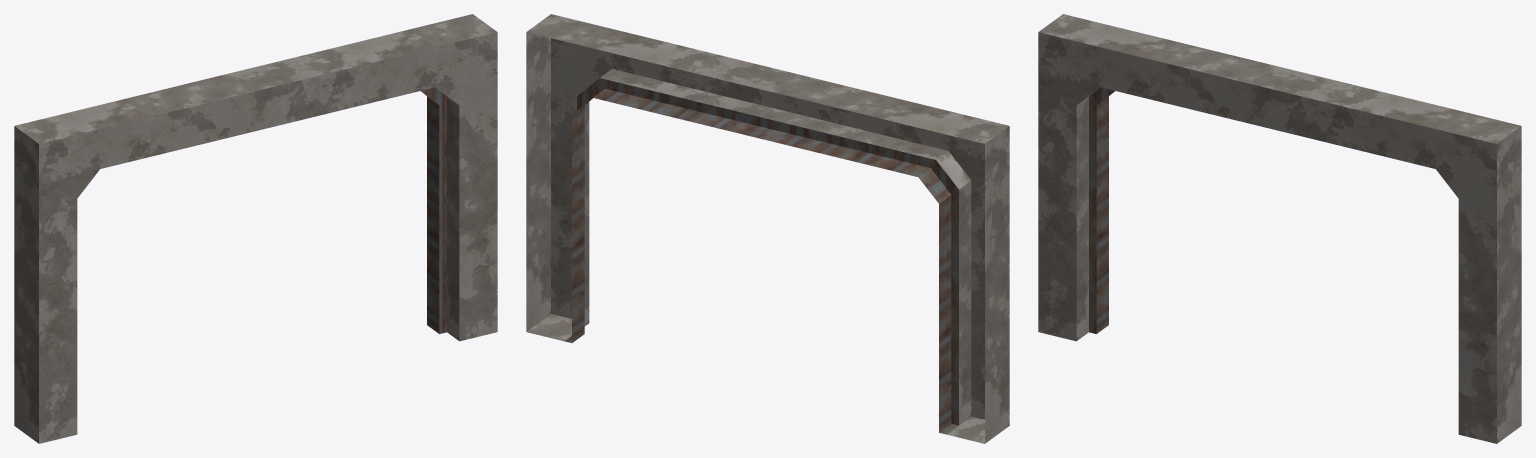
The model's file is DoubleDoorFrame.glb.
The picture shows the model from 3 angles, left to right: view 1: azimuth 30°, elevation 25°; view 2: azimuth 150°, elevation 25°; view 3: azimuth 330°, elevation 25°; orthographic projection.
Parts seen in each view (by area): view 1: Door_Double_Frame_Cube.001; view 2: Door_Double_Frame_Cube.001; view 3: Door_Double_Frame_Cube.001.
Part boxes in pixels (x1,y1,x2,y2): Door_Double_Frame_Cube.001: [14, 14, 497, 443]; Door_Double_Frame_Cube.001: [526, 14, 1009, 443]; Door_Double_Frame_Cube.001: [1038, 14, 1521, 443].
Size of the model in its own units: 8 by 5 by 0.75.
2 materials, 2 textured.
